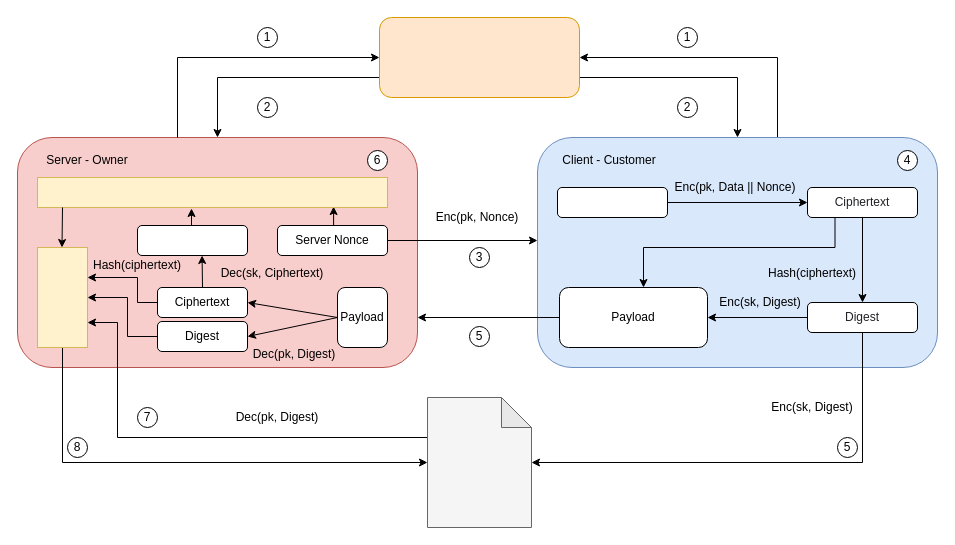
Some shapes in this 955 by 545 pixel diagram are drawn without their labels. Here are the shapes that lost their labels. From the top down, the centre of each, then its label:
(479,57): Trusted Key keeping Authority
(212,192): Check If Data and Nonce are valid
(612,202): Data
(192,240): Data, Nonce
(62,297): Aprove
(479,462): Smart Contract
